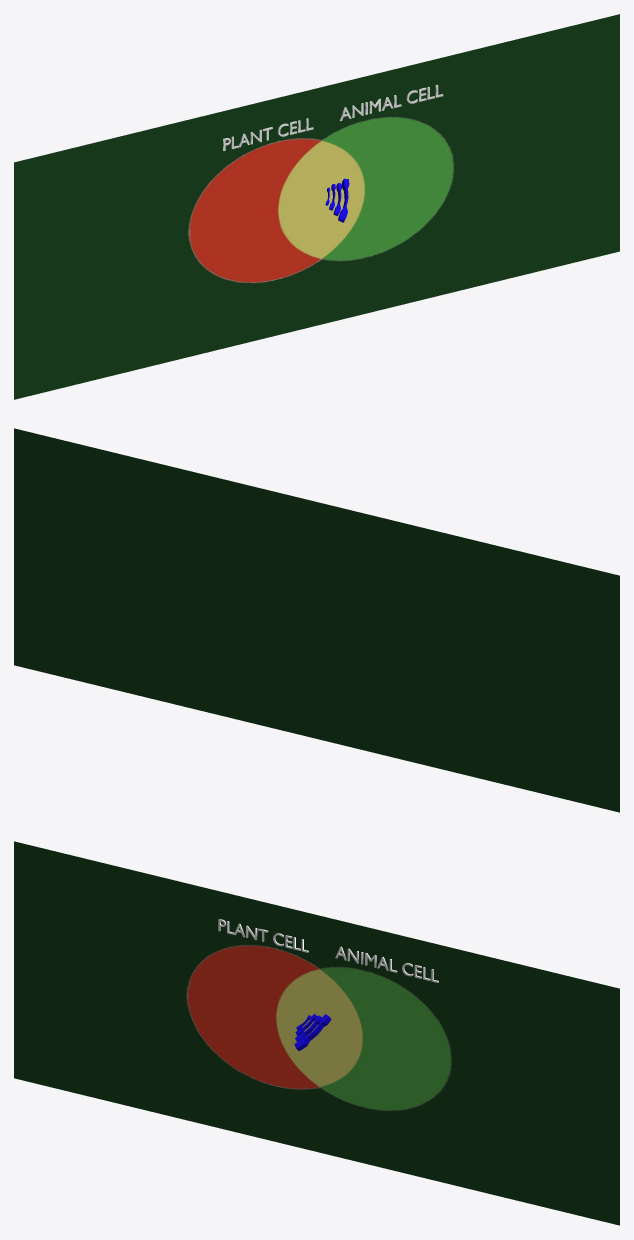
The model's file is golgi.gltf.
3 renders of one model, top to bottom at view 1: azimuth 30°, elevation 25°; view 2: azimuth 150°, elevation 25°; view 3: azimuth 330°, elevation 25°, orthographic.
Visible parts, largest first — view 1: Plane.039, Plane.013, Text.009, Text.008, Cube.005; view 2: Plane.013; view 3: Plane.039, Plane.013, Text.009, Cube.005, Text.008.
Part boxes in pixels (box(x1,y1,x2,y2)): Plane.039: box(120, 41, 523, 370); Plane.013: box(14, 14, 619, 399); Text.009: box(339, 84, 443, 121); Text.008: box(223, 118, 313, 150); Cube.005: box(325, 178, 349, 222); Plane.013: box(14, 428, 619, 812); Plane.039: box(118, 869, 521, 1198); Plane.013: box(14, 841, 619, 1225); Text.009: box(335, 946, 438, 982); Cube.005: box(294, 1014, 331, 1050); Text.008: box(218, 919, 308, 952).
Bounding box in the file's own units: 15.94 × 5.96 × 1.11.
Materials: 5 (1 with a texture image).
